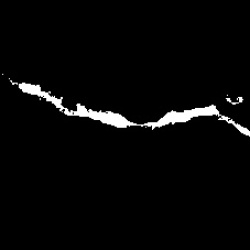crack: (7, 74, 248, 136), (225, 93, 244, 110)
